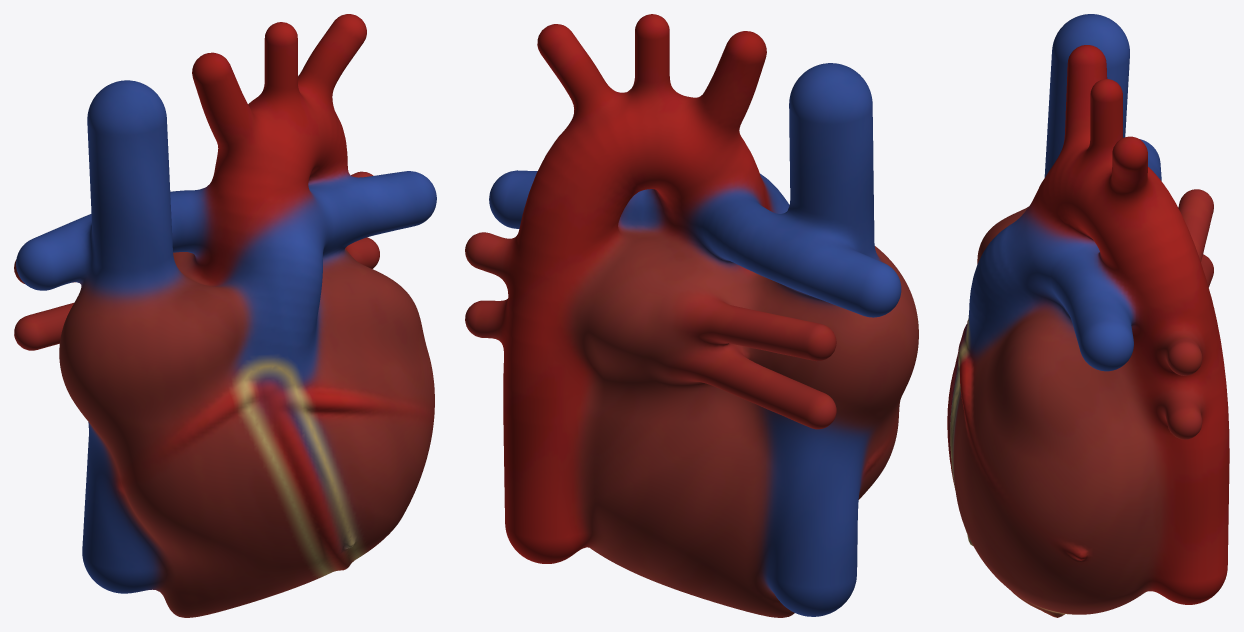
File: serce.glb
The picture shows the model from 3 angles, left to right: view 1: azimuth 30°, elevation 25°; view 2: azimuth 150°, elevation 25°; view 3: azimuth 270°, elevation 25°; orthographic projection. The views are drawn at different scales.
Visible parts, largest first — view 1: Miesien; view 2: Miesien; view 3: Miesien.
Part boxes in pixels (x1=…): Miesien: x1=14, y1=14, x2=436, y2=617; Miesien: x1=465, y1=14, x2=918, y2=617; Miesien: x1=947, y1=14, x2=1229, y2=617.
Size of the model in its own units: 0.2547 by 0.339 by 0.1589.
